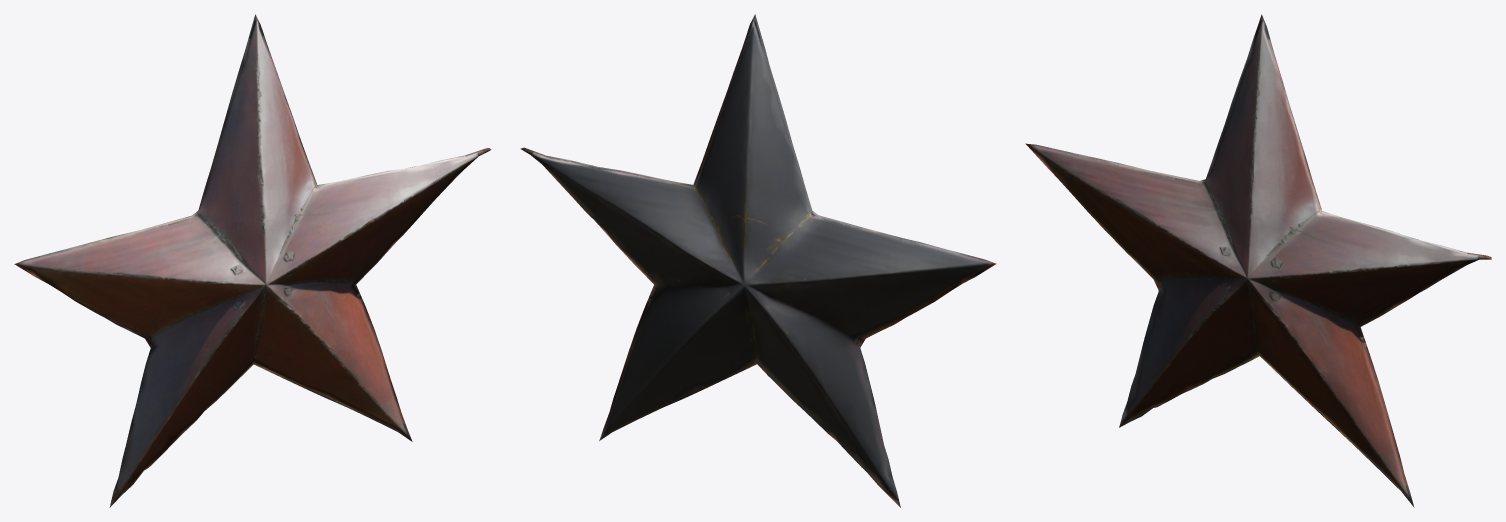
Rendered from coin.glb.
3 views of the same model, side by side, from view 1: azimuth 30°, elevation 25°; view 2: azimuth 150°, elevation 25°; view 3: azimuth 330°, elevation 25° (orthographic). The views are drawn at different scales.
Bounding box in the file's own units: 2.01 × 1.88 × 0.1827.
Materials: 1 (1 with a texture image).
